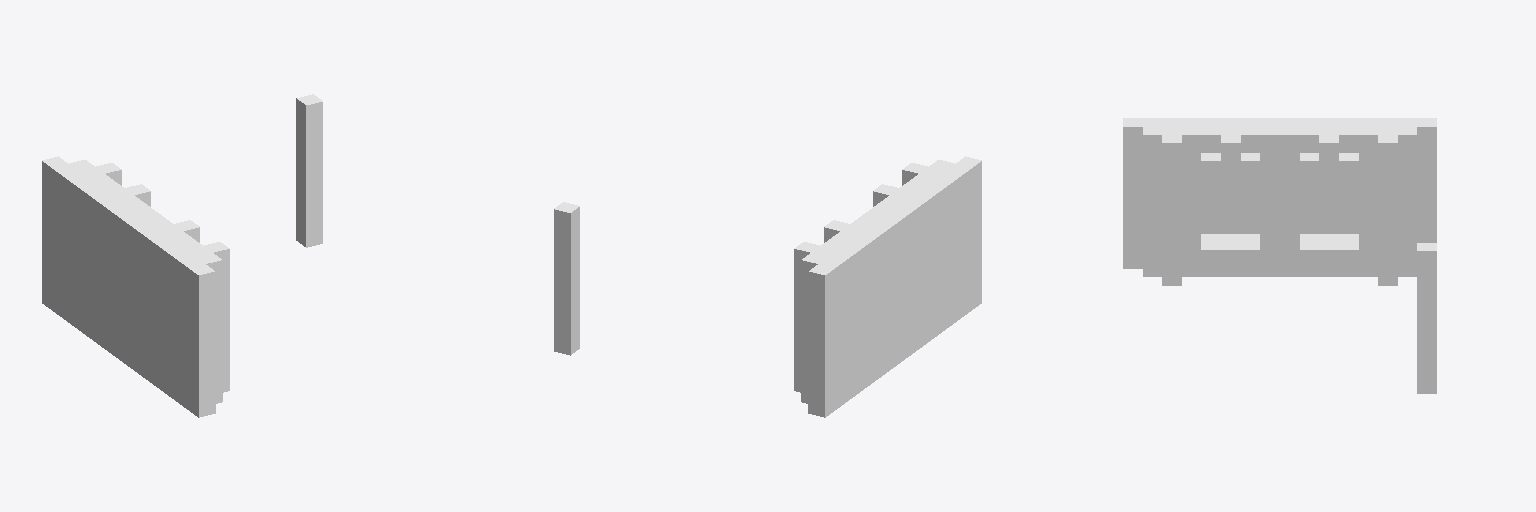
File: towar-31.obj
3 views of the same model, side by side, from view 1: azimuth 30°, elevation 25°; view 2: azimuth 150°, elevation 25°; view 3: azimuth 270°, elevation 25° (orthographic).
Visible parts, largest first — view 1: towar-31; view 2: towar-31; view 3: towar-31.
Boxes of the visible parts, box(x1,y1,x2,y2) form: towar-31: box(42, 94, 322, 417); towar-31: box(554, 156, 981, 417); towar-31: box(1123, 118, 1436, 393).
Bounding box in the file's own units: 16 × 8 × 16.